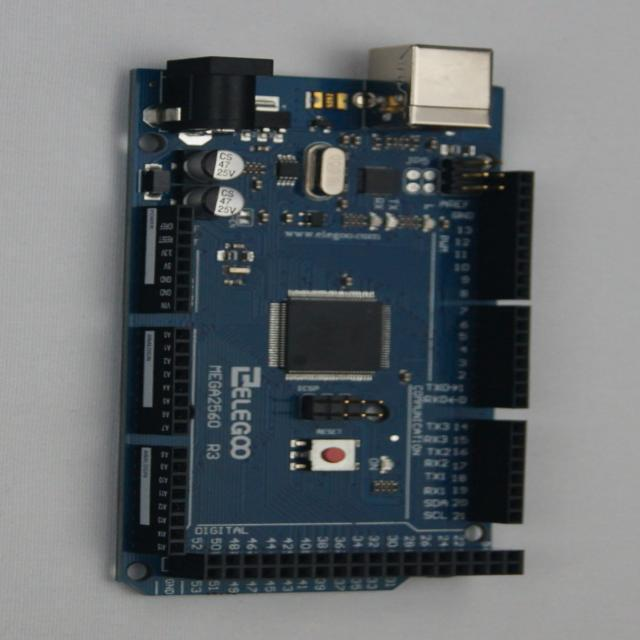Arduino Mega 2560 -Blue-: (116, 46, 534, 595)
